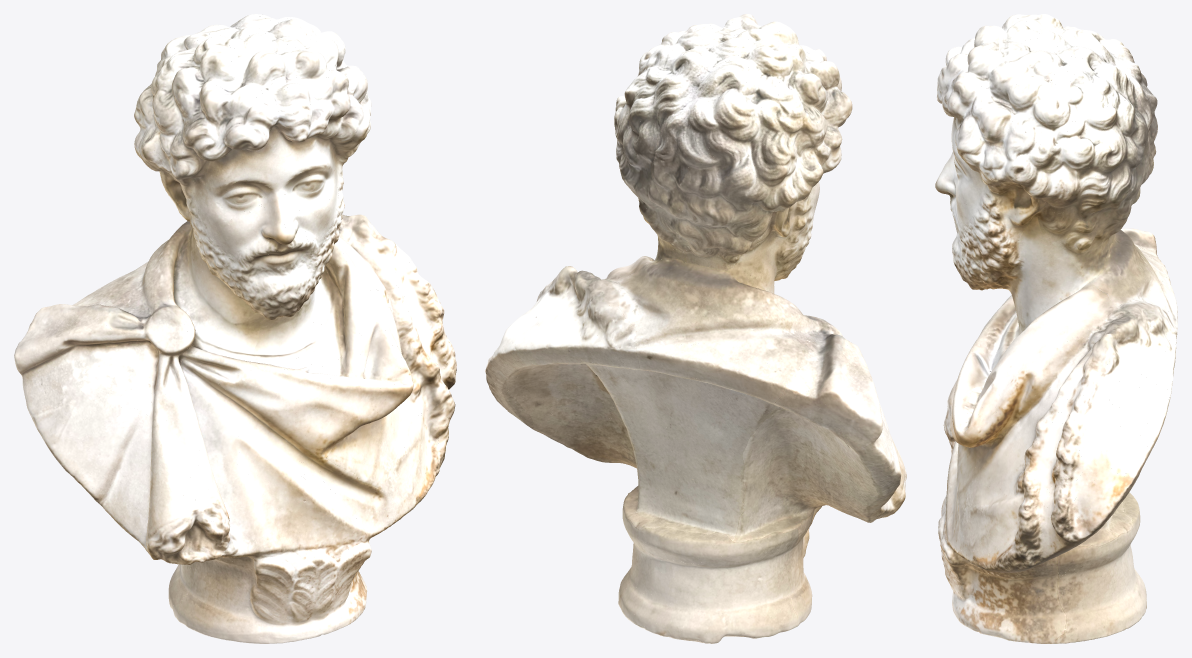
The model's file is gsxnet-aurelius-transformed.glb.
3 views of the same model, side by side, from view 1: azimuth 30°, elevation 25°; view 2: azimuth 150°, elevation 25°; view 3: azimuth 270°, elevation 25° (orthographic). The views are drawn at different scales.
Parts seen in each view (by area): view 1: Object_2, Object_3; view 2: Object_2, Object_3; view 3: Object_2, Object_3.
Boxes of the visible parts, x1=… form: Object_2: x1=14, y1=14, x2=456, y2=643; Object_3: x1=16, y1=14, x2=456, y2=642; Object_2: x1=485, y1=14, x2=905, y2=643; Object_3: x1=486, y1=17, x2=906, y2=642; Object_2: x1=935, y1=14, x2=1177, y2=643; Object_3: x1=937, y1=14, x2=1177, y2=643.
Size of the model in its own units: 0.5429 by 0.7373 by 0.2838.
1 material, 1 textured.
